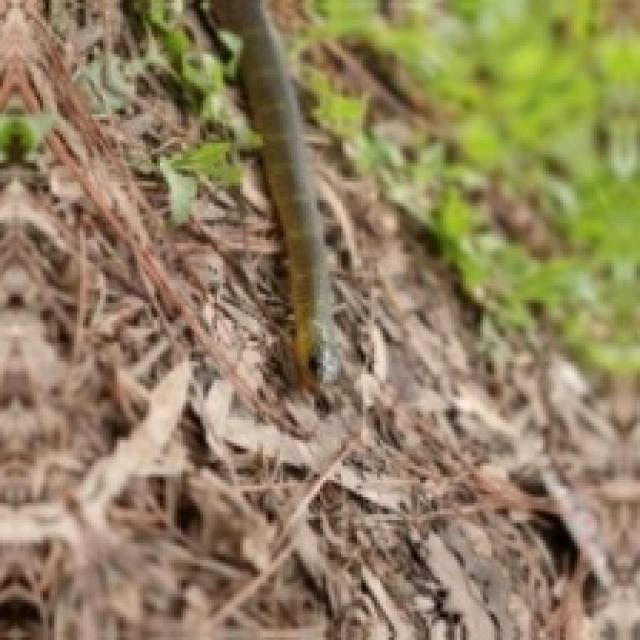gunthers philippine shrub snake: (211, 0, 334, 380)
